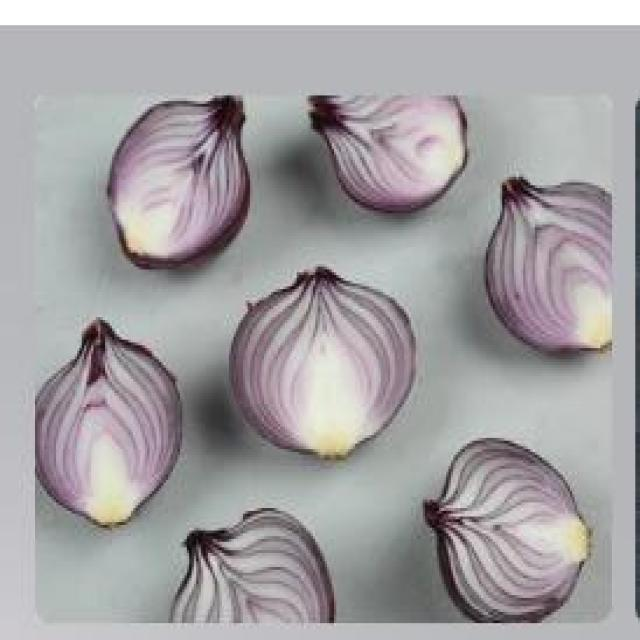Onion: (233, 255, 422, 452), (420, 438, 591, 626), (77, 94, 252, 257), (41, 320, 176, 516), (153, 508, 342, 640), (489, 165, 620, 354), (308, 91, 474, 201)
